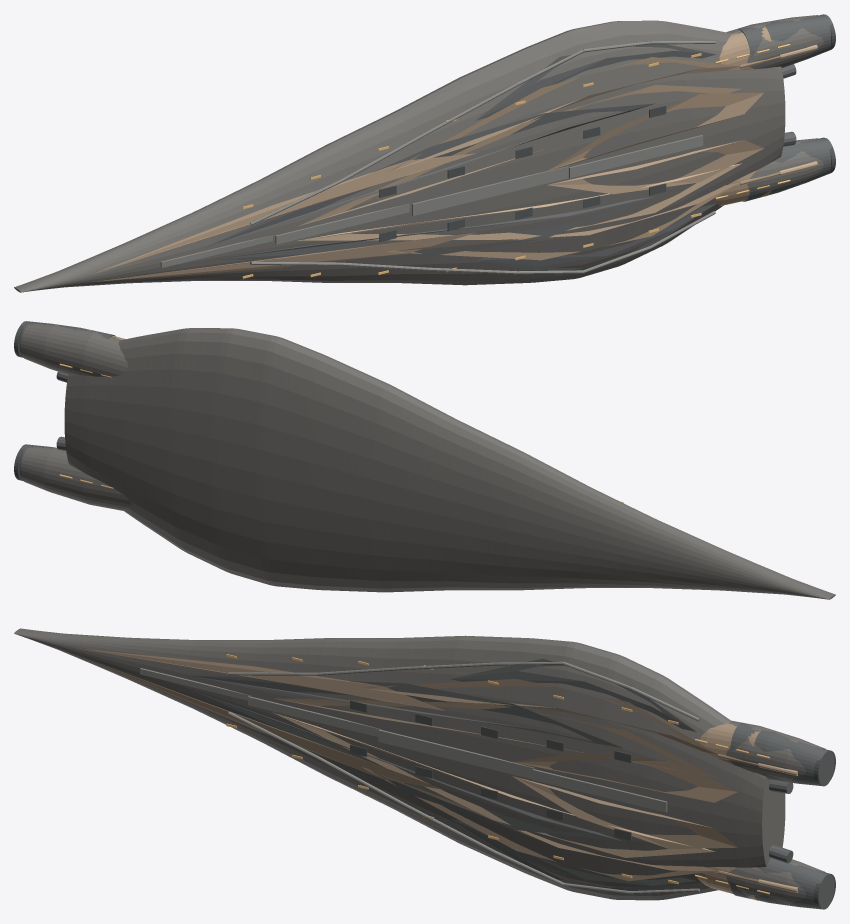
Rendered from battleship.glb.
The picture shows the model from 3 angles, top to bottom: view 1: azimuth 30°, elevation 25°; view 2: azimuth 150°, elevation 25°; view 3: azimuth 330°, elevation 25°; orthographic projection.
Visible parts, largest first — view 1: 01 | Continuous flattened arrowhead hull, 02 | Port sweeping armor 01, 02 | Starboard sweeping armor 01, 02 | Port sweeping armor 00, 02 | Starboard sweeping armor 00, 02 | Starboard sweeping armor 02, 02 | Starboard sweeping armor 05, 02 | Port sweeping armor 05, 02 | Port sweeping armor 03, 02 | Port sweeping armor 02, 02 | Starboard sweeping armor 03, 02 | Port sweeping armor 04 (+11 smaller); view 2: 01 | Continuous flattened arrowhead hull, 06 | Port continuous integrated engine shoulder, 06 | Starboard continuous integrated engine shoulder; view 3: 01 | Continuous flattened arrowhead hull, 02 | Starboard sweeping armor 01, 02 | Port sweeping armor 01, 02 | Port sweeping armor 00, 02 | Starboard sweeping armor 02, 02 | Starboard sweeping armor 05, 02 | Starboard sweeping armor 00, 02 | Port sweeping armor 05, 08 | Port aft shoulder camouflage, 02 | Port sweeping armor 03, 02 | Port sweeping armor 02, 02 | Starboard sweeping armor 03 (+11 smaller).
Part boxes in pixels (bbox=[...]): 01 | Continuous flattened arrowhead hull: bbox=[14, 20, 785, 292]; 02 | Port sweeping armor 01: bbox=[206, 103, 655, 246]; 02 | Starboard sweeping armor 01: bbox=[206, 196, 655, 260]; 02 | Port sweeping armor 00: bbox=[93, 153, 475, 273]; 02 | Starboard sweeping armor 00: bbox=[94, 232, 476, 281]; 02 | Starboard sweeping armor 02: bbox=[297, 163, 741, 240]; 02 | Starboard sweeping armor 05: bbox=[547, 140, 763, 194]; 02 | Port sweeping armor 05: bbox=[547, 92, 763, 170]; 02 | Port sweeping armor 03: bbox=[387, 57, 739, 172]; 02 | Port sweeping armor 02: bbox=[298, 85, 741, 226]; 02 | Starboard sweeping armor 03: bbox=[387, 182, 739, 260]; 02 | Port sweeping armor 04: bbox=[475, 41, 716, 120]; 01 | Continuous flattened arrowhead hull: bbox=[64, 328, 835, 599]; 06 | Port continuous integrated engine shoulder: bbox=[21, 324, 127, 376]; 06 | Starboard continuous integrated engine shoulder: bbox=[21, 447, 132, 511]; 01 | Continuous flattened arrowhead hull: bbox=[14, 628, 785, 900]; 02 | Starboard sweeping armor 01: bbox=[188, 689, 622, 841]; 02 | Port sweeping armor 01: bbox=[187, 675, 622, 747]; 02 | Port sweeping armor 00: bbox=[80, 648, 446, 711]; 02 | Starboard sweeping armor 02: bbox=[273, 712, 715, 857]; 02 | Starboard sweeping armor 05: bbox=[512, 776, 737, 849]; 02 | Starboard sweeping armor 00: bbox=[81, 657, 445, 790]; 02 | Port sweeping armor 05: bbox=[512, 752, 737, 802]; 08 | Port aft shoulder camouflage: bbox=[730, 723, 834, 786]; 02 | Port sweeping armor 03: bbox=[361, 679, 717, 754]; 02 | Port sweeping armor 02: bbox=[273, 698, 714, 776]; 02 | Starboard sweeping armor 03: bbox=[361, 767, 717, 881].
Bounding box in the file's own units: 36.4 × 10.69 × 2.79.
